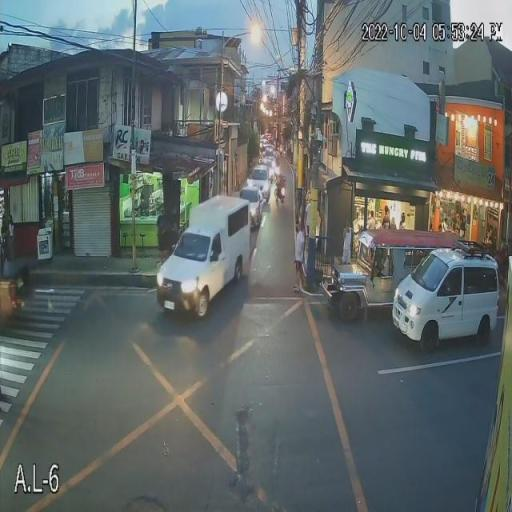motorcycle: (275, 172, 291, 210)
